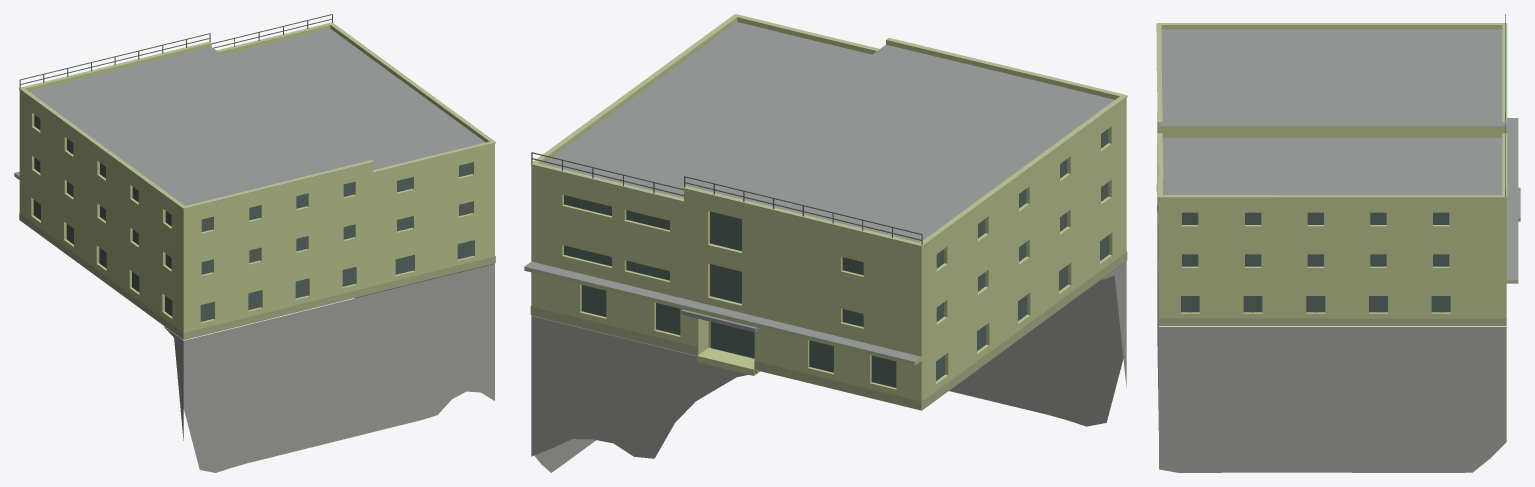
3 views of the same model, side by side, from view 1: azimuth 30°, elevation 25°; view 2: azimuth 150°, elevation 25°; view 3: azimuth 270°, elevation 25° (orthographic). The views are drawn at different scales.
Visible parts, largest first — view 1: west__wall, west__roof, foundation__west, west__glass, west__trim, west__base, west__parapet, west__frame; view 2: west__wall, west__roof, foundation__west, west__glass, west__trim, west__base, west__parapet, west__frame, west__entranceThreshold_0; view 3: west__roof, foundation__west, west__wall, west__trim, west__glass, west__base, west__parapet.
Part boxes in pixels (x1=…): west__wall: x1=19, y1=92, x2=494, y2=339; west__roof: x1=15, y1=28, x2=485, y2=205; foundation__west: x1=164, y1=263, x2=494, y2=472; west__glass: x1=33, y1=115, x2=473, y2=321; west__trim: x1=14, y1=22, x2=495, y2=209; west__base: x1=19, y1=213, x2=495, y2=339; west__parapet: x1=19, y1=25, x2=494, y2=211; west__frame: x1=19, y1=14, x2=465, y2=314; west__wall: x1=531, y1=100, x2=1126, y2=410; west__roof: x1=525, y1=22, x2=1114, y2=410; foundation__west: x1=531, y1=261, x2=1126, y2=472; west__glass: x1=564, y1=129, x2=1109, y2=387; west__trim: x1=524, y1=14, x2=1127, y2=365; west__base: x1=530, y1=251, x2=1127, y2=410; west__parapet: x1=531, y1=17, x2=1126, y2=250; west__frame: x1=531, y1=132, x2=1103, y2=387; west__entranceThreshold_0: x1=697, y1=347, x2=759, y2=375; west__roof: x1=1158, y1=29, x2=1518, y2=280; foundation__west: x1=1157, y1=199, x2=1506, y2=472; west__wall: x1=1157, y1=112, x2=1506, y2=318; west__trim: x1=1156, y1=23, x2=1518, y2=283; west__glass: x1=1181, y1=212, x2=1450, y2=312; west__base: x1=1156, y1=184, x2=1506, y2=325; west__parapet: x1=1158, y1=25, x2=1506, y2=200.
Size of the model in its own units: 27.7 by 23.76 by 26.16.
